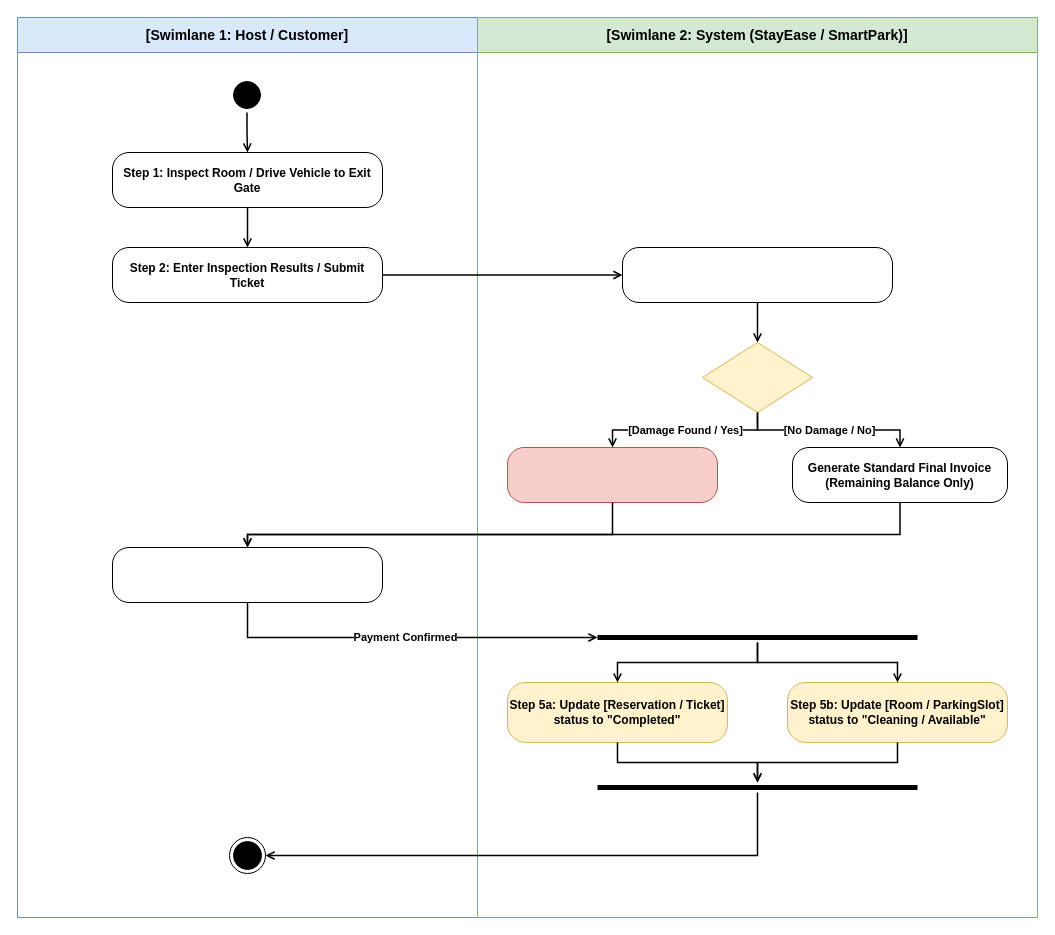
Some shapes in this 1055 by 935 pixel diagram are drawn without their labels. The centre of each missing label's shape, as x and y in pixels:
"Calculate Damage Fee & Add to Final Invoice" goes at point 612,474.
"Condition?" goes at point 757,377.
"Step 3: Evaluate Inspection Report / Calculate Fee" goes at point 757,274.
"Step 4: Settle Final Invoice / Make Payment" goes at point 247,574.
